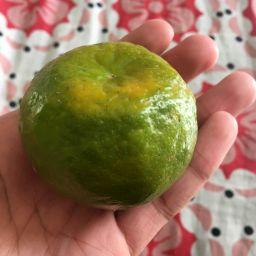Unripe: (17, 41, 197, 208)
